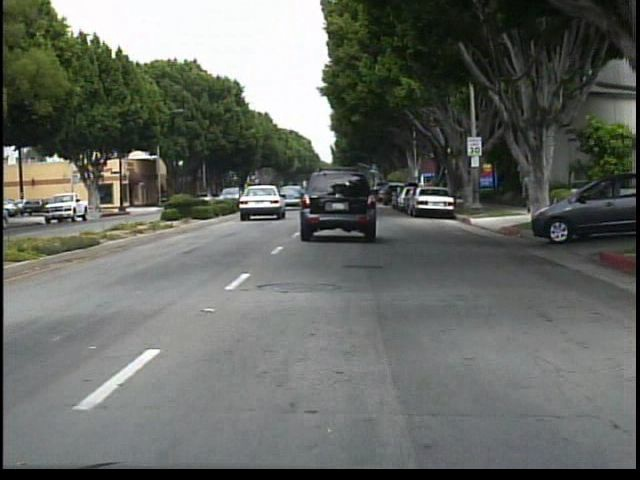person: (516, 171, 538, 217)
